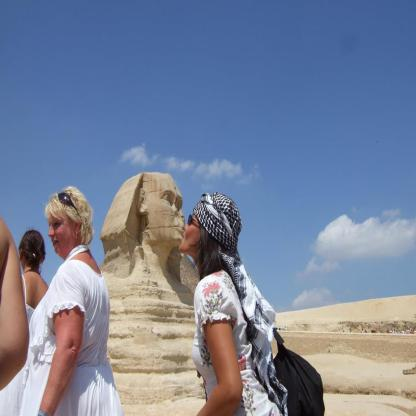face: (178, 210, 217, 256), (49, 214, 76, 255)
